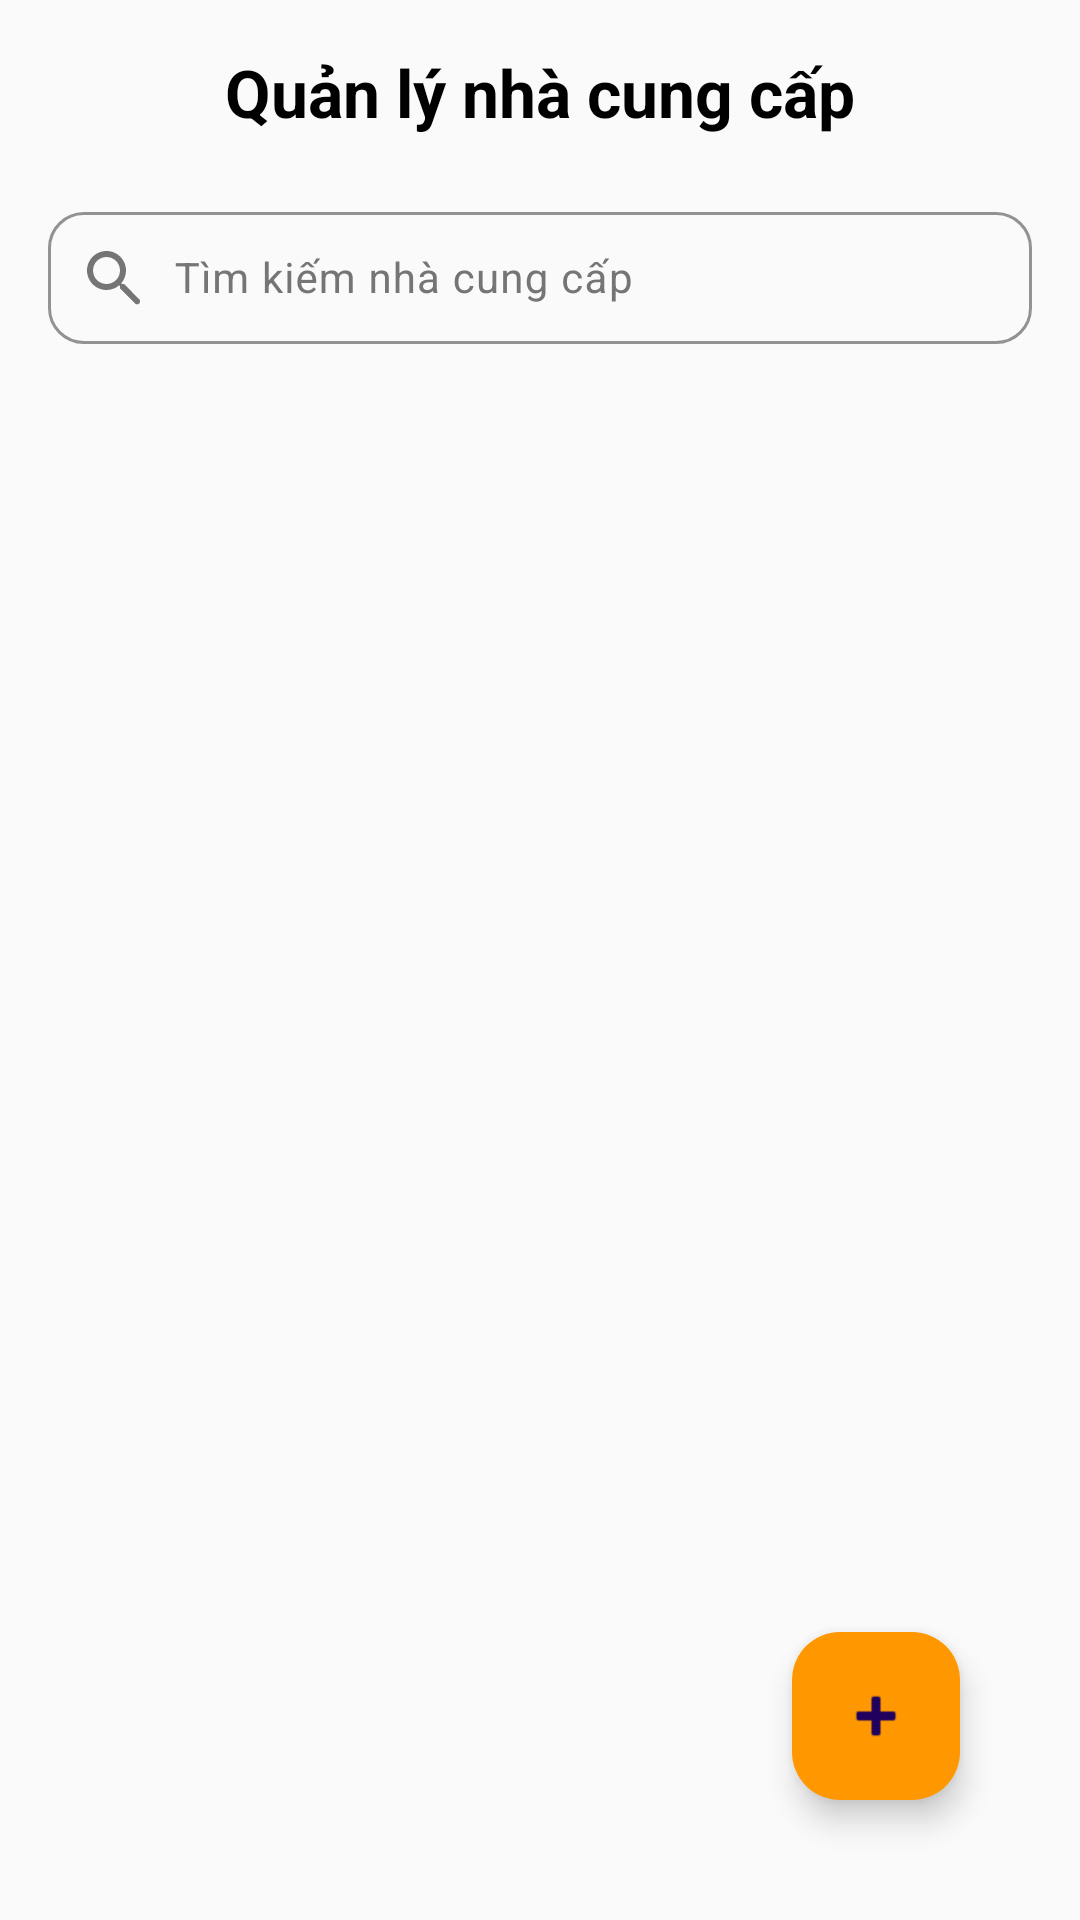

Point at icon controls on the screen. Image size 1080 x 1920, points as [x,y].
Thêm nhà cung cấp: [876,1716]
